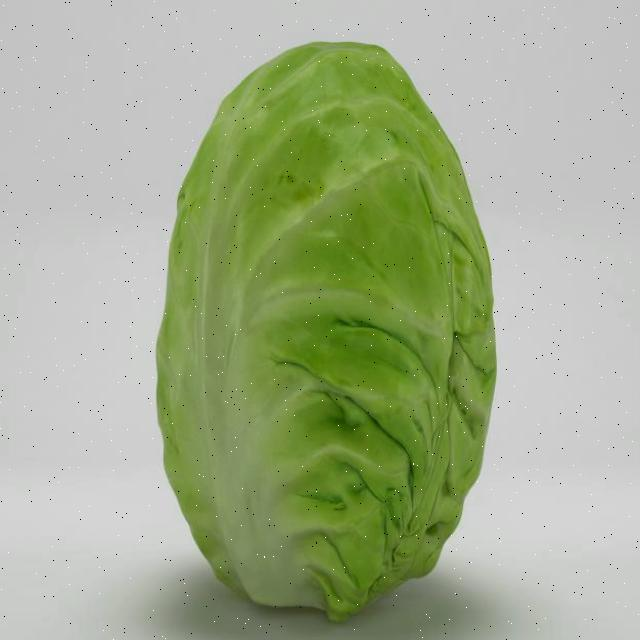cabbage: (154, 27, 500, 624)
